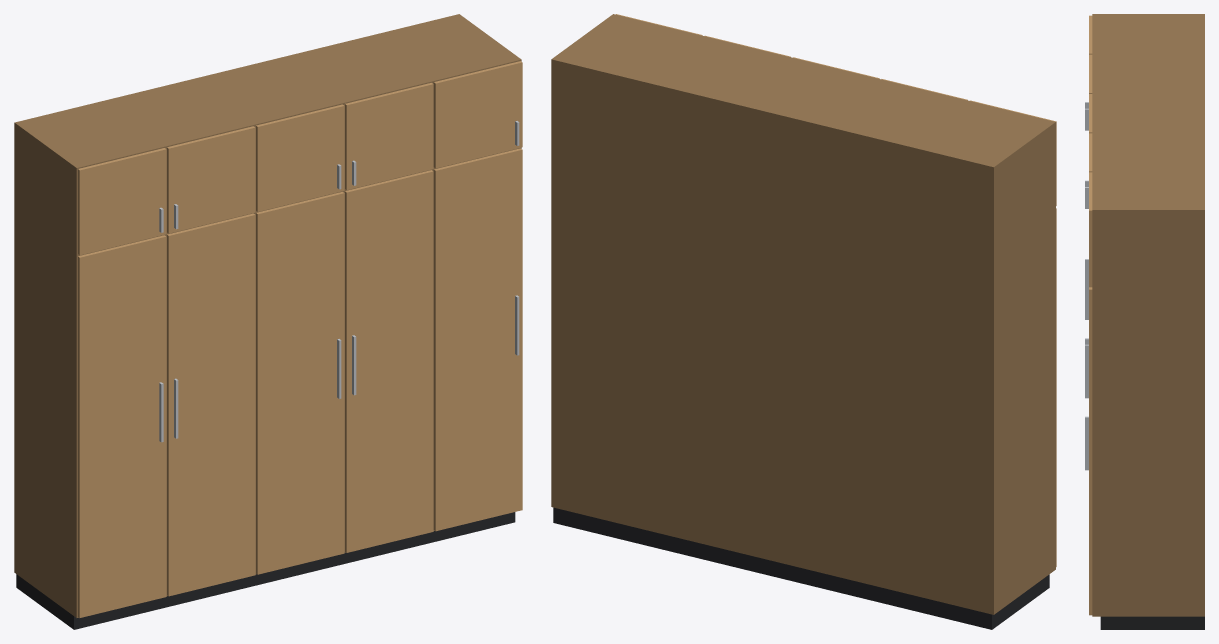
File: gardirop-2400-mese.glb
3 views of the same model, side by side, from view 1: azimuth 30°, elevation 25°; view 2: azimuth 150°, elevation 25°; view 3: azimuth 270°, elevation 25° (orthographic). The views are drawn at different scales.
Parts seen in each view (by area): view 1: mobilya; view 2: mobilya; view 3: mobilya.
Boxes of the visible parts, <box> form: mobilya: <box>14,14,522,629</box>; mobilya: <box>551,14,1056,629</box>; mobilya: <box>1085,14,1204,629</box>.
Bounding box in the file's own units: 2.4 × 2.4 × 0.62.
